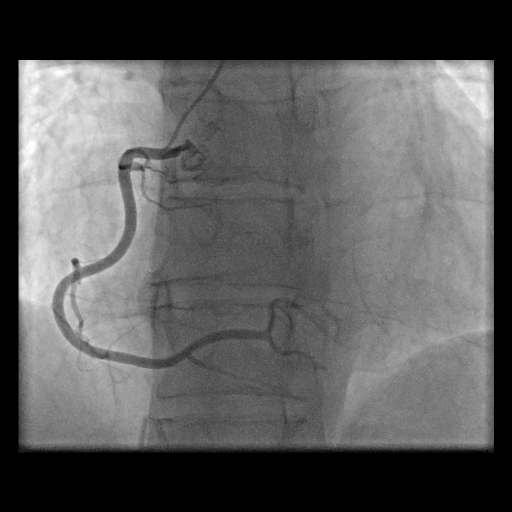RCA: (52, 140, 324, 375)
catherter: (160, 61, 223, 155)
